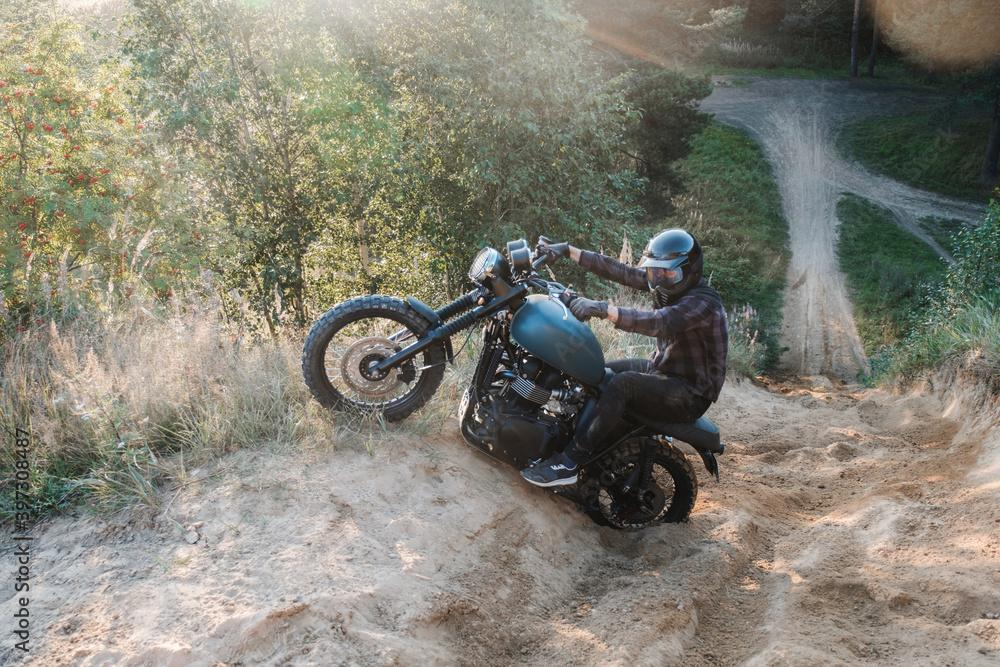helmet: (637, 227, 704, 309)
